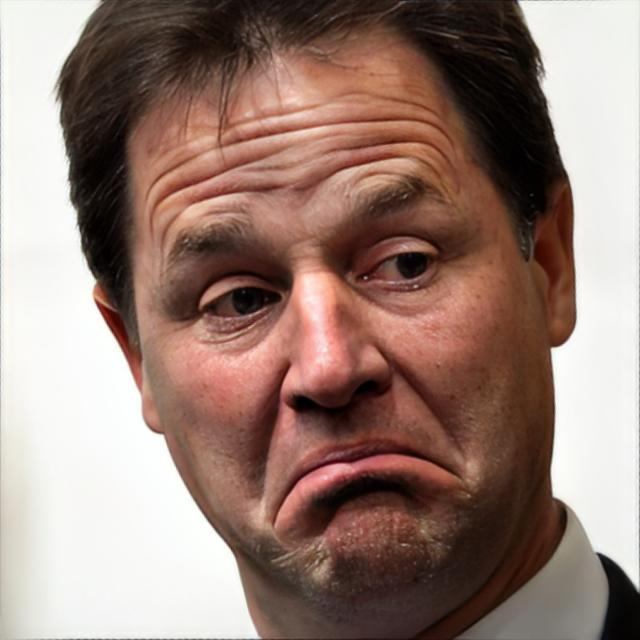disgust: (126, 10, 554, 613)
